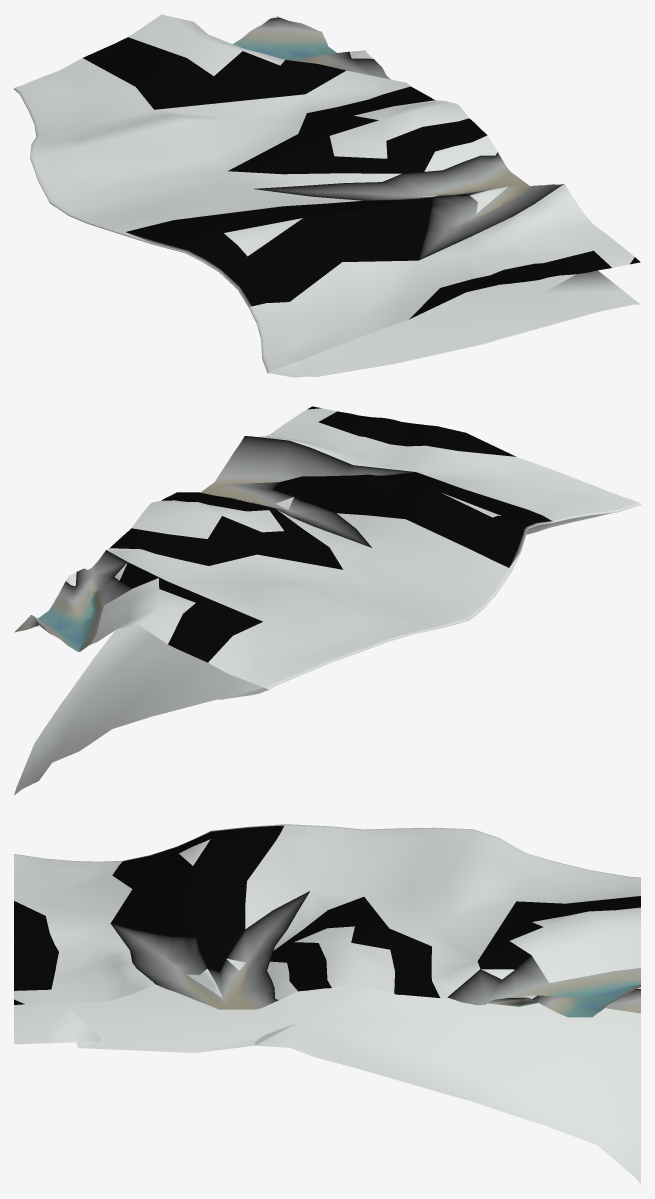
The picture shows the model from 3 angles, top to bottom: view 1: azimuth 30°, elevation 25°; view 2: azimuth 150°, elevation 25°; view 3: azimuth 270°, elevation 25°; orthographic projection. The views are drawn at different scales.
Visible parts, largest first — view 1: G:\FFXIV-MapTools\exports\u5f2\bg\ex4\04_uvs_u5\fld\u5f2\bgp (×5); view 2: G:\FFXIV-MapTools\exports\u5f2\bg\ex4\04_uvs_u5\fld\u5f2\bgp (×6); view 3: G:\FFXIV-MapTools\exports\u5f2\bg\ex4\04_uvs_u5\fld\u5f2\bgp (×6).
Boxes of the visible parts, x1=… form: G:\FFXIV-MapTools\exports\u5f2\bg\ex4\04_uvs_u5\fld\u5f2\bgp (×5): x1=14, y1=14, x2=640, y2=377; G:\FFXIV-MapTools\exports\u5f2\bg\ex4\04_uvs_u5\fld\u5f2\bgp (×6): x1=14, y1=406, x2=640, y2=795; G:\FFXIV-MapTools\exports\u5f2\bg\ex4\04_uvs_u5\fld\u5f2\bgp (×6): x1=14, y1=824, x2=640, y2=1184.
Size of the model in its own units: 84 by 47.77 by 128.
